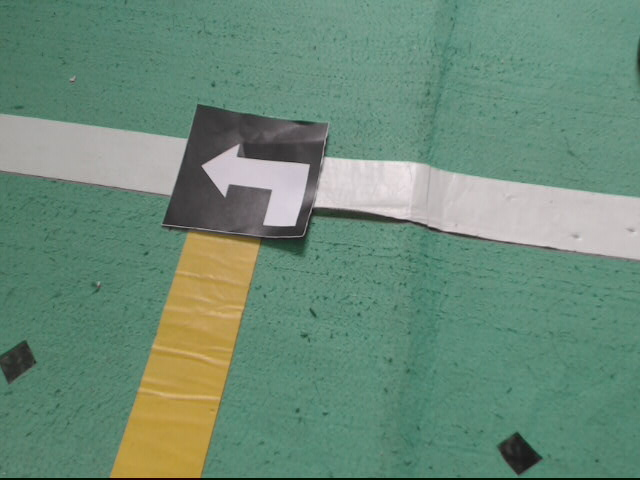left: (159, 103, 333, 243)
